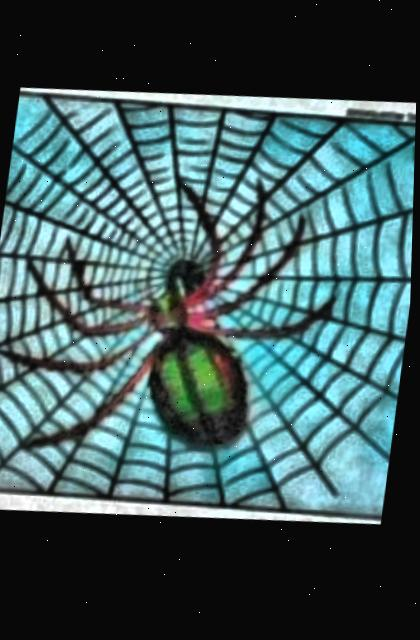La Arana: (0, 94, 416, 522)
